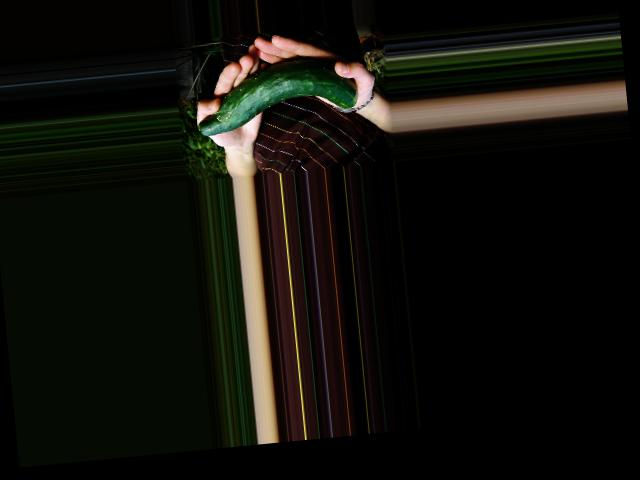cucumber: (193, 54, 361, 136)
